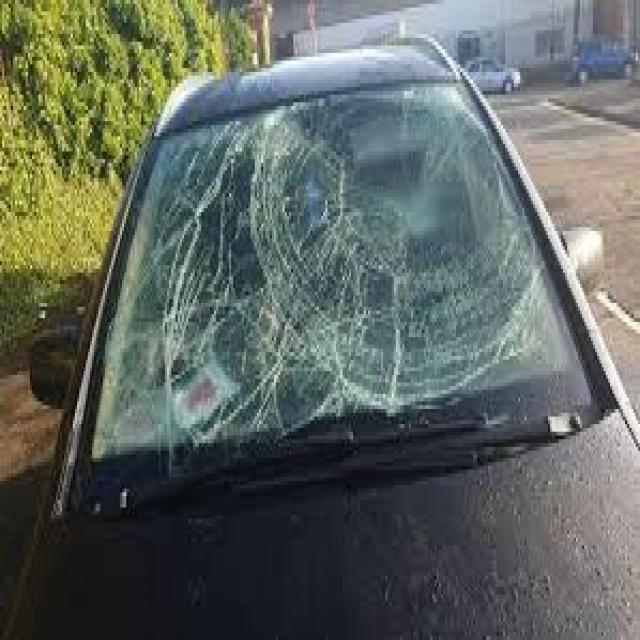minor: (139, 112, 525, 418)
